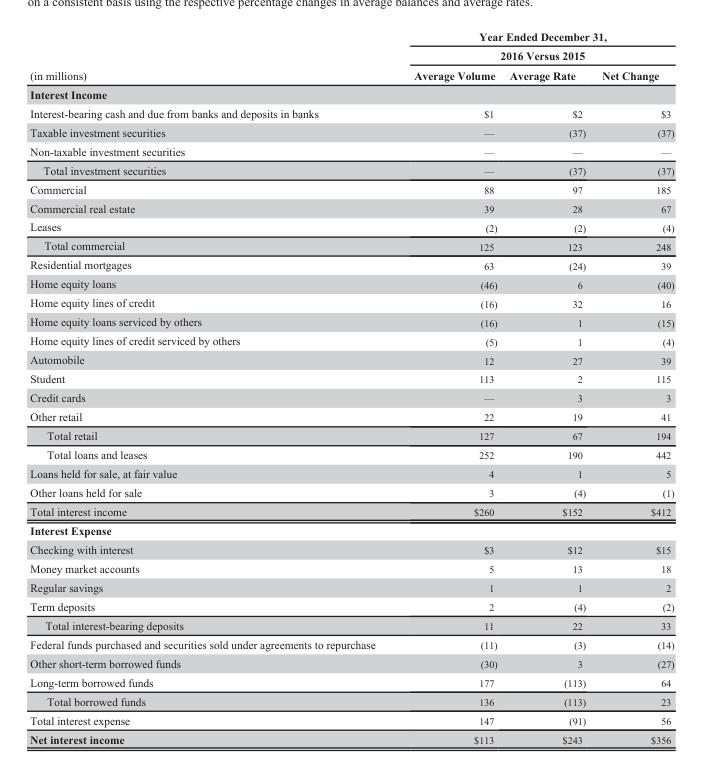table: (29, 29, 673, 745)
table column: (29, 29, 394, 745), (394, 29, 502, 745), (502, 29, 593, 745), (593, 29, 673, 745)
table column header: (29, 29, 673, 84)
table projected row header: (29, 84, 673, 103), (29, 520, 673, 539)
table row: (29, 29, 673, 64), (29, 64, 673, 84), (29, 84, 673, 103), (29, 103, 673, 122), (29, 122, 673, 141), (29, 141, 673, 160), (29, 160, 673, 179), (29, 179, 673, 198), (29, 198, 673, 217), (29, 217, 673, 236), (29, 236, 673, 255), (29, 255, 673, 274), (29, 274, 673, 293), (29, 311, 673, 330), (29, 330, 673, 349), (29, 349, 673, 368), (29, 368, 673, 387), (29, 387, 673, 406), (29, 406, 673, 425), (29, 425, 673, 444), (29, 444, 673, 463), (29, 463, 673, 482), (29, 482, 673, 501), (29, 501, 673, 520), (29, 520, 673, 539), (29, 539, 673, 558), (29, 558, 673, 577), (29, 577, 673, 596), (29, 596, 673, 615), (29, 615, 673, 634), (29, 634, 673, 653), (29, 653, 673, 672), (29, 672, 673, 691), (29, 691, 673, 710), (29, 710, 673, 729), (29, 293, 673, 311), (29, 729, 673, 745)
table spanning cell: (29, 29, 394, 84), (394, 29, 673, 64)
